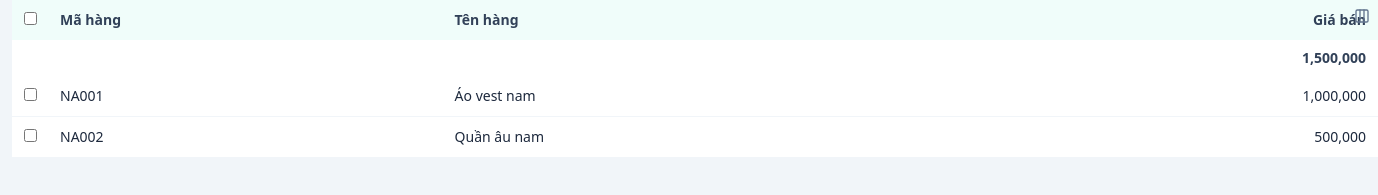
Test case: header checkbox selects all visible rows
This screenshot has width=1378, height=195.
Click the checkbox named "Chọn tất cả". click: (30, 18)
box: [24, 12, 36, 25]
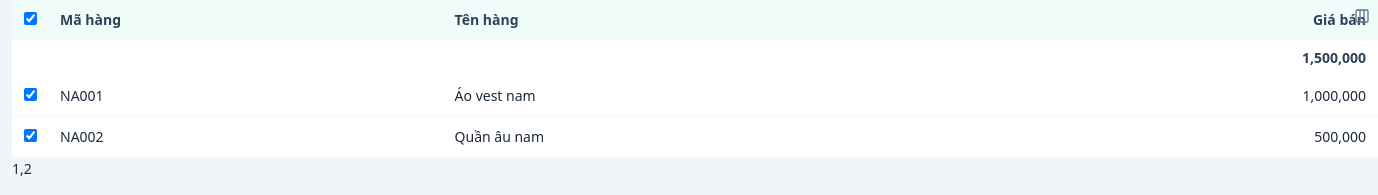
Expected: the text with test id "sel" reads "1,2", [12, 159, 32, 178]
